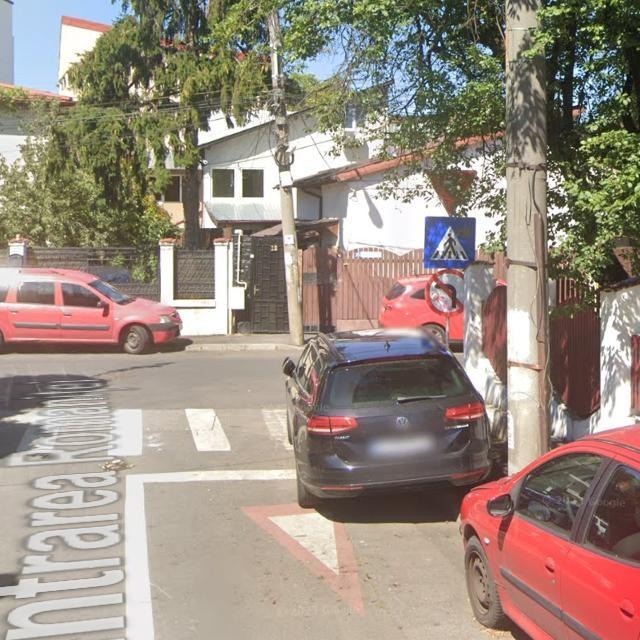info_crosswalk: (424, 217, 476, 269)
prio_give_way: (239, 503, 366, 618), (423, 169, 476, 218)
